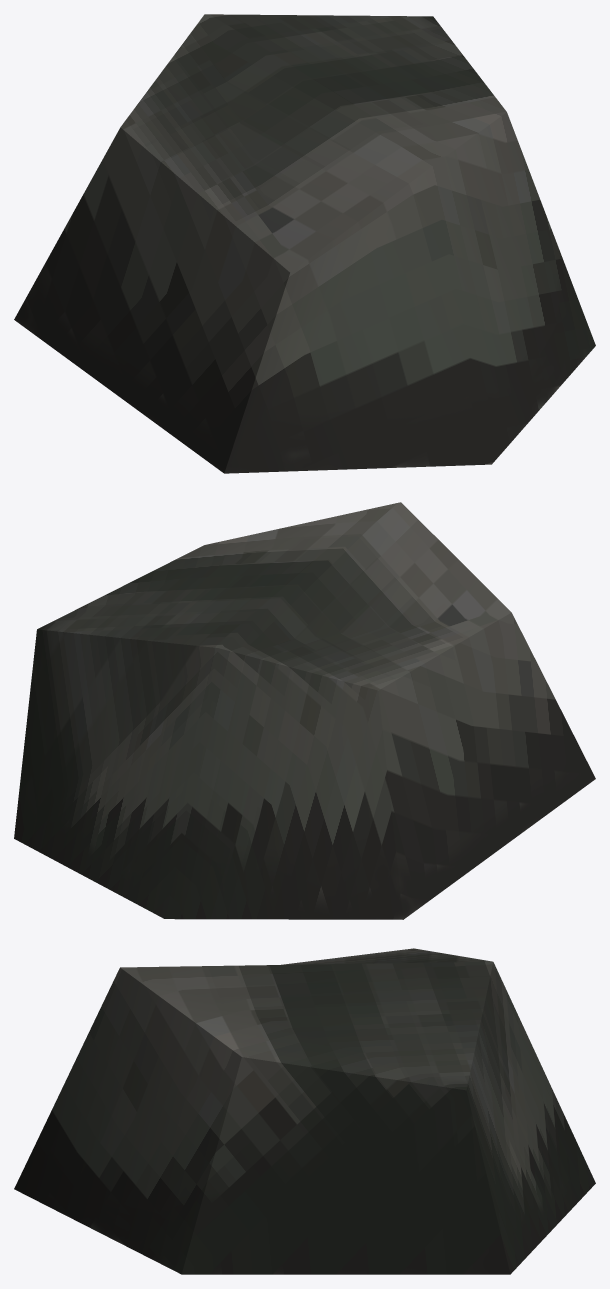
The model's file is rock3.fbx.
3 renders of one model, top to bottom at view 1: azimuth 30°, elevation 25°; view 2: azimuth 150°, elevation 25°; view 3: azimuth 270°, elevation 25°, orthographic. The views are drawn at different scales.
Parts seen in each view (by area): view 1: rock3; view 2: rock3; view 3: rock3.
Boxes of the visible parts, x1,y1,x2,y2 form: rock3: (14, 14, 595, 473); rock3: (14, 502, 595, 919); rock3: (14, 948, 595, 1274).
Size of the model in its own units: 0.5654 by 0.3338 by 0.794.
